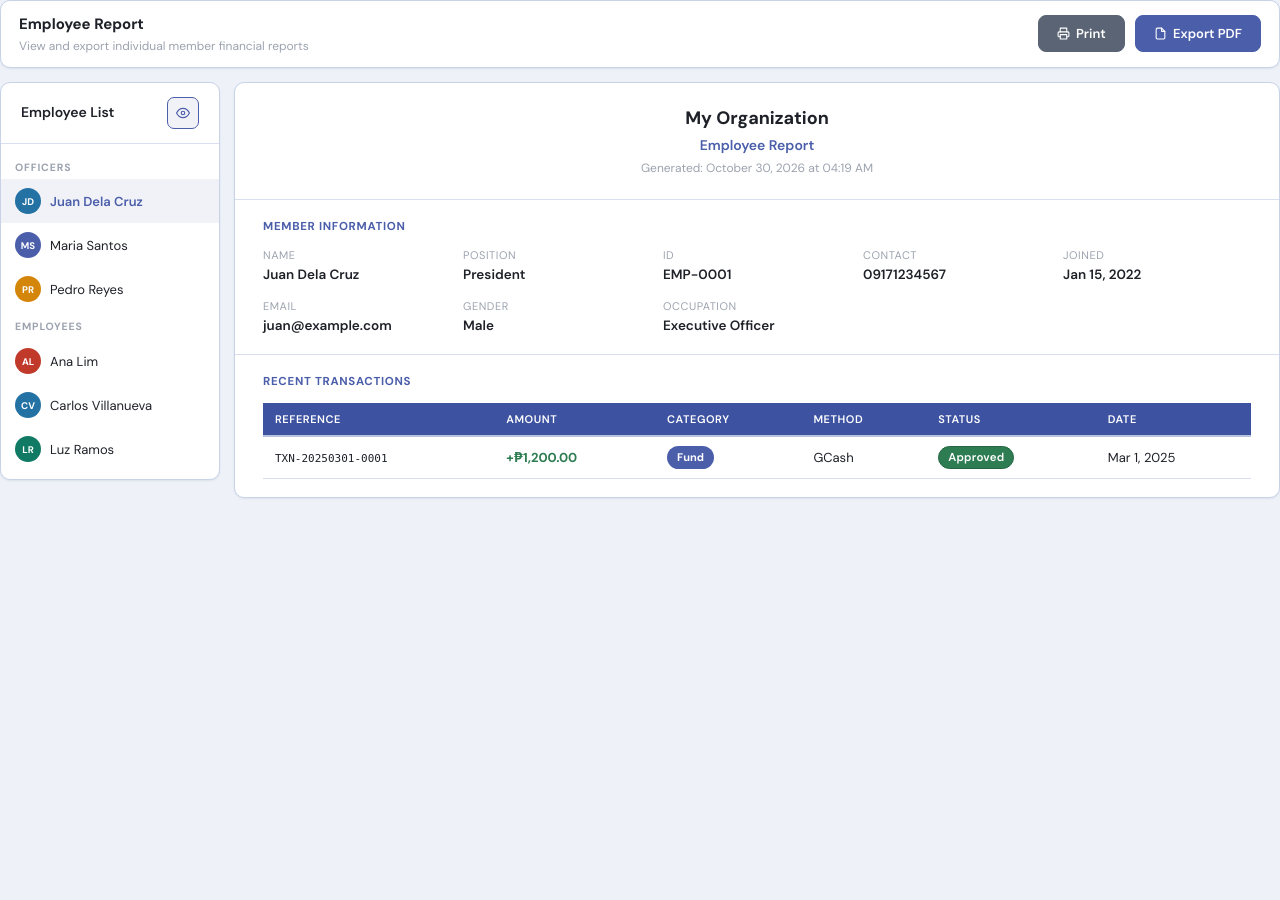
Scenario: EmployeeReport › Export PDF asks for confirmation, then shows the result for the selected member
Click the button "PR Pedro Reyes".
click(110, 289)  # box [1,267,219,311]
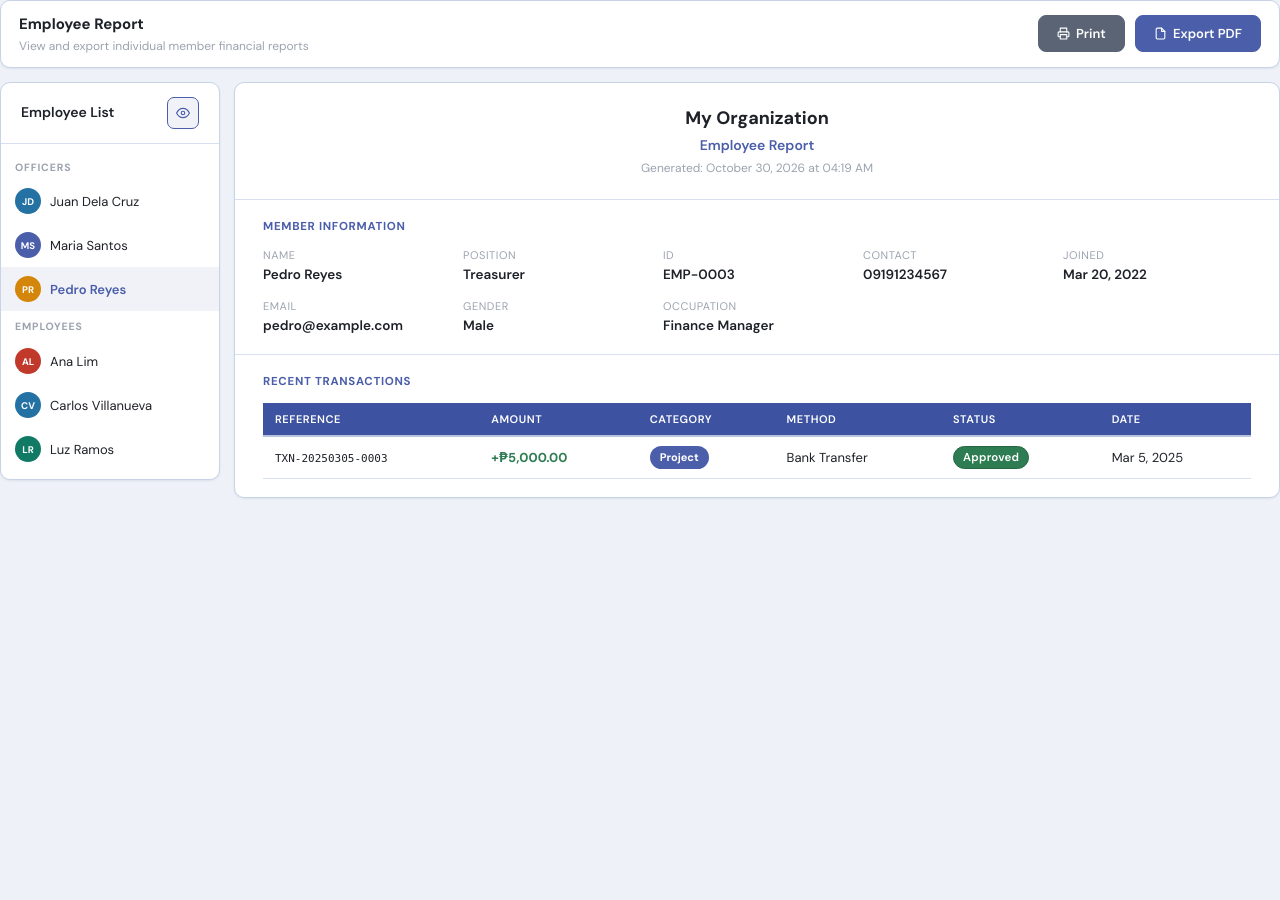
Click the button "Export PDF".
click(1198, 34)  # box [1135,15,1261,52]
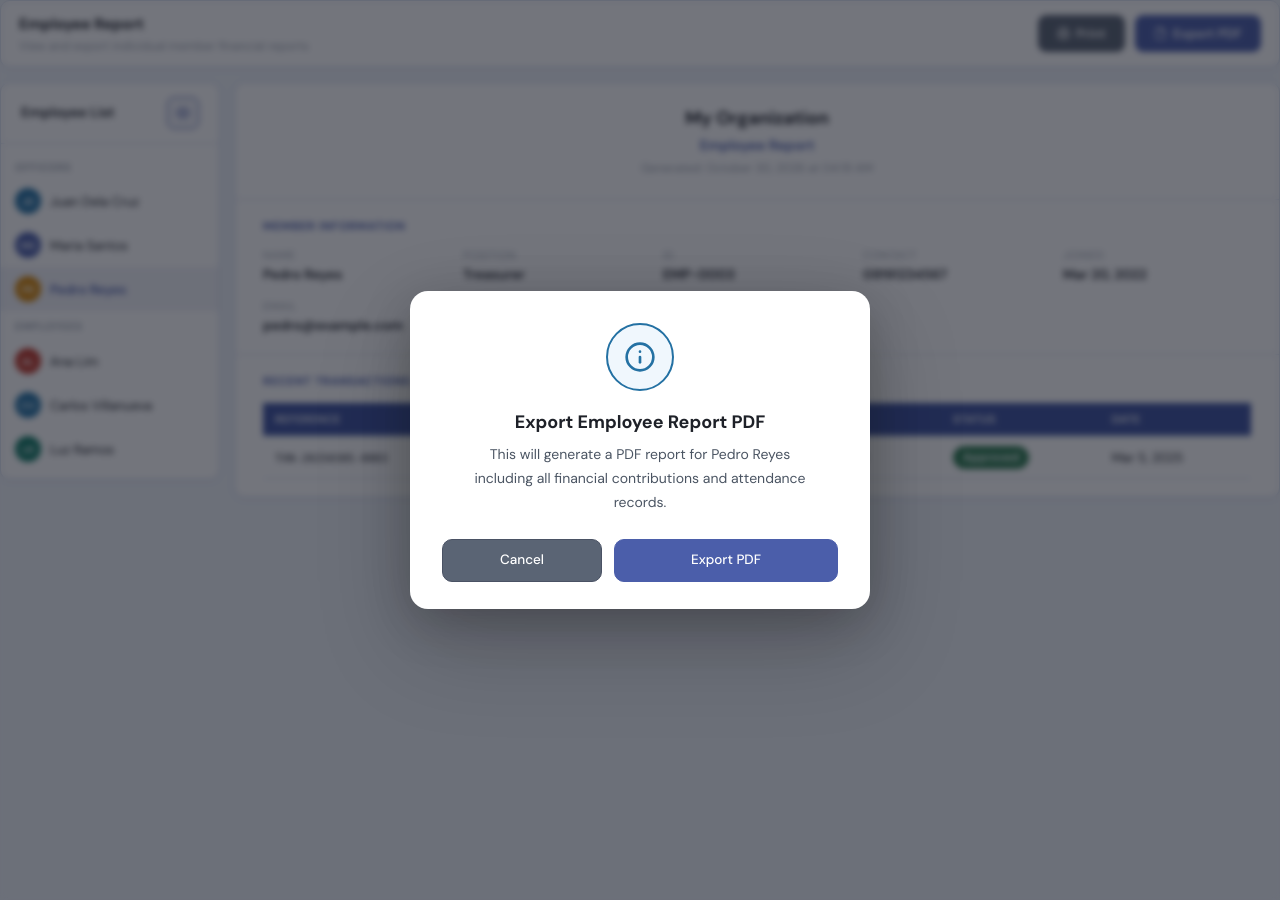
Now the text "Export Employee Report PDF" is shown, box [515,410,765,434]
Click the button "Cancel".
click(522, 560)  # box [442,538,602,581]
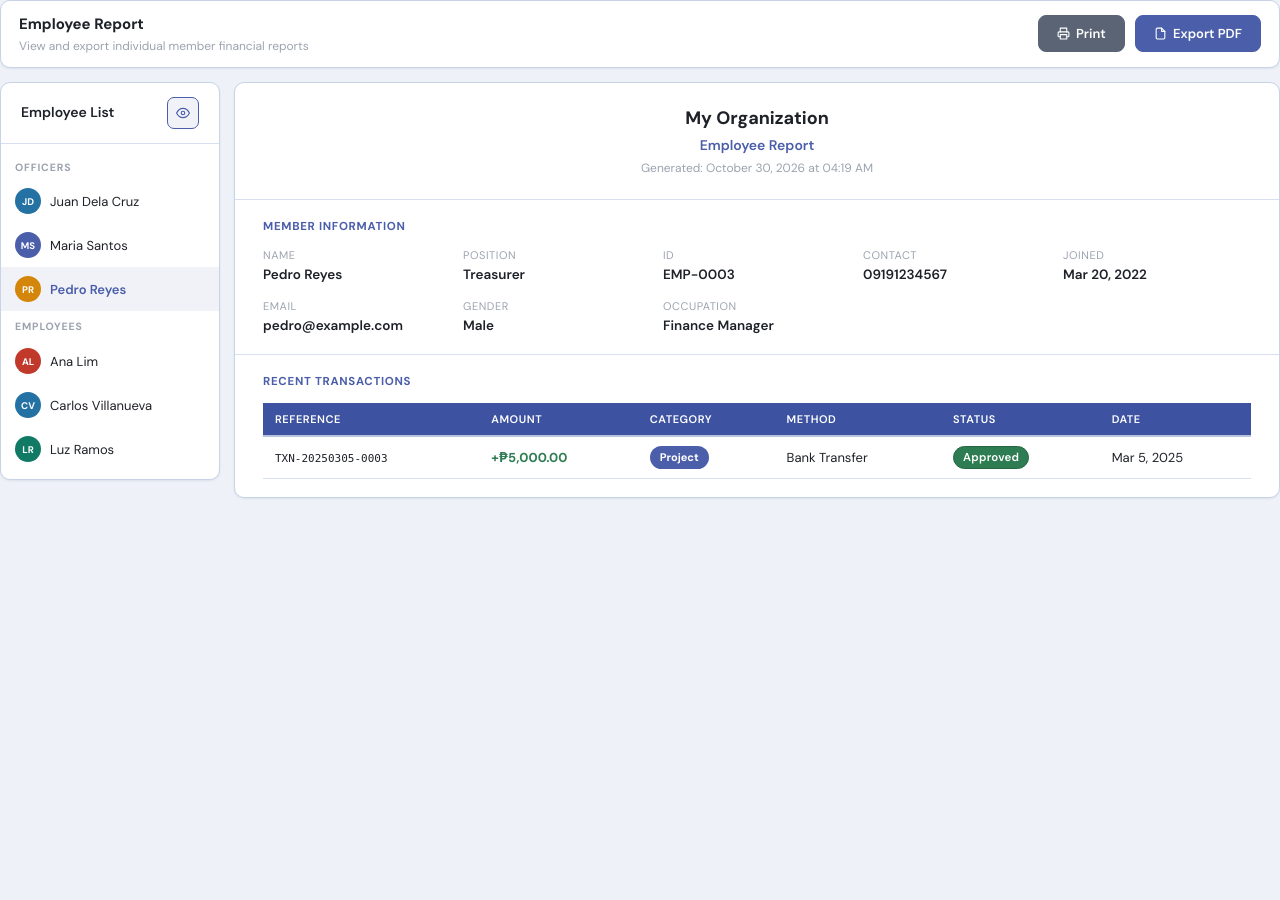
Now the text "Export Employee Report PDF" is gone
Click the button "Export PDF".
click(1198, 34)  # box [1135,15,1261,52]
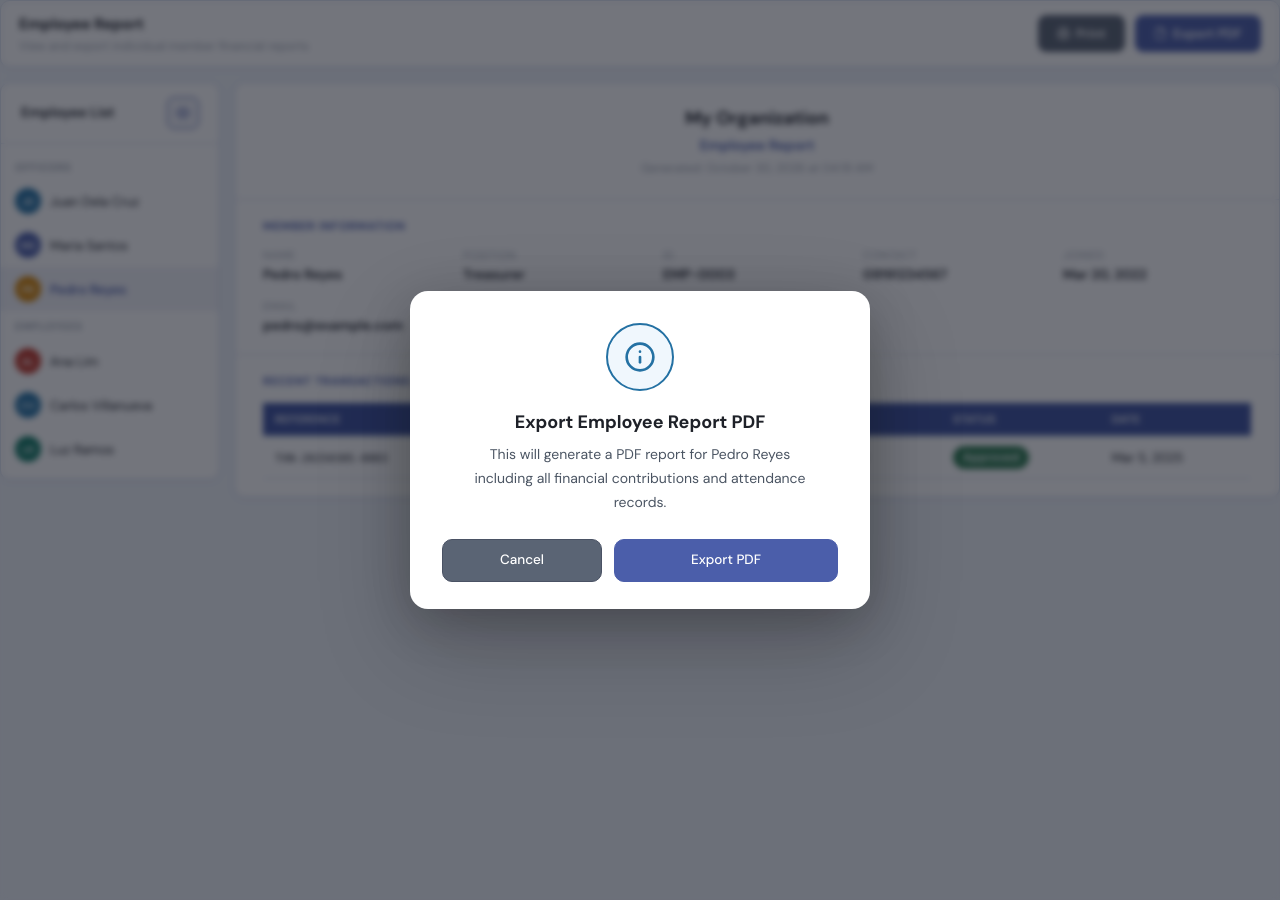
Click the button "Export PDF".
click(726, 560)  # box [614,538,838,581]
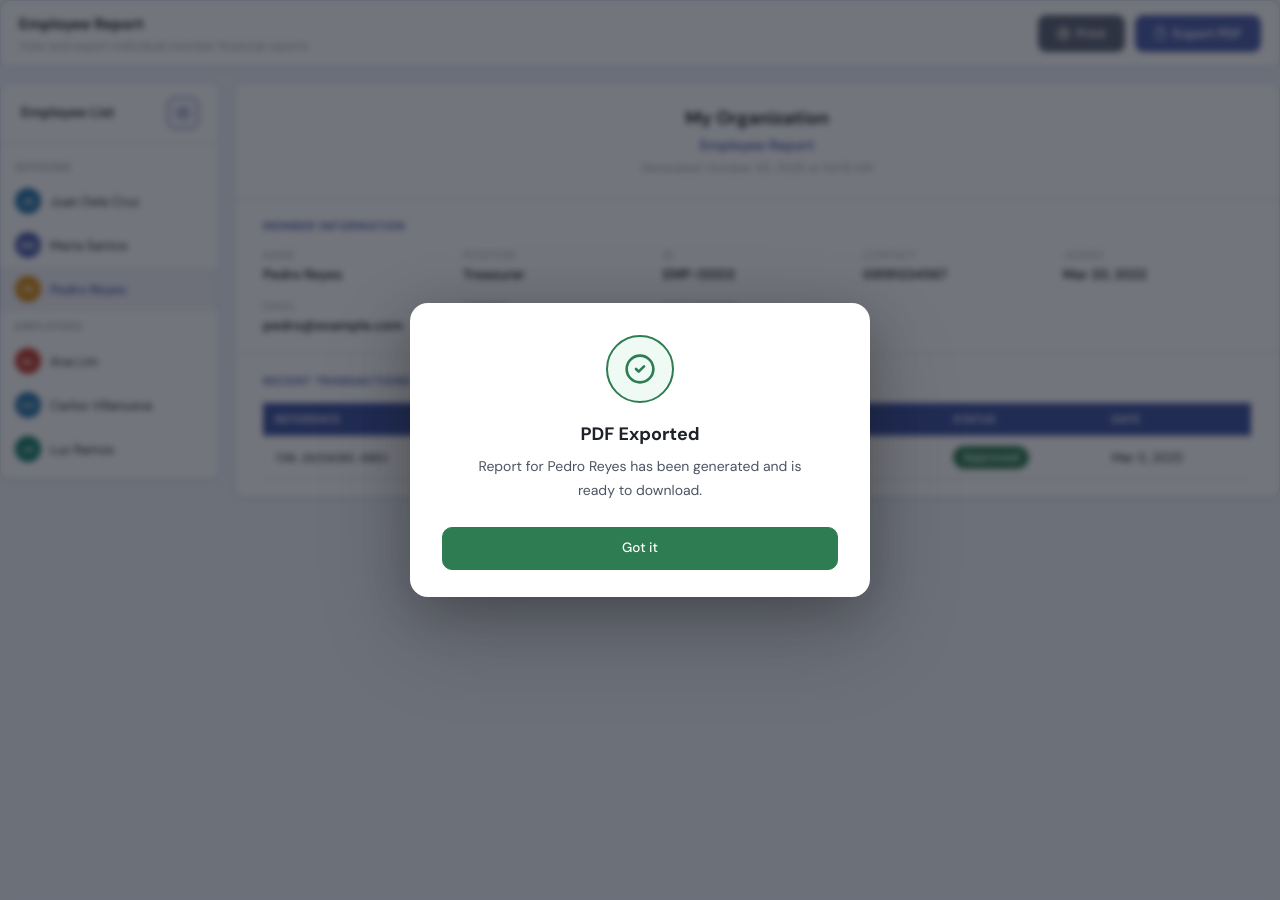
Now the text "Report for Pedro Reyes has been generated" is shown, box [478,457,802,499]
